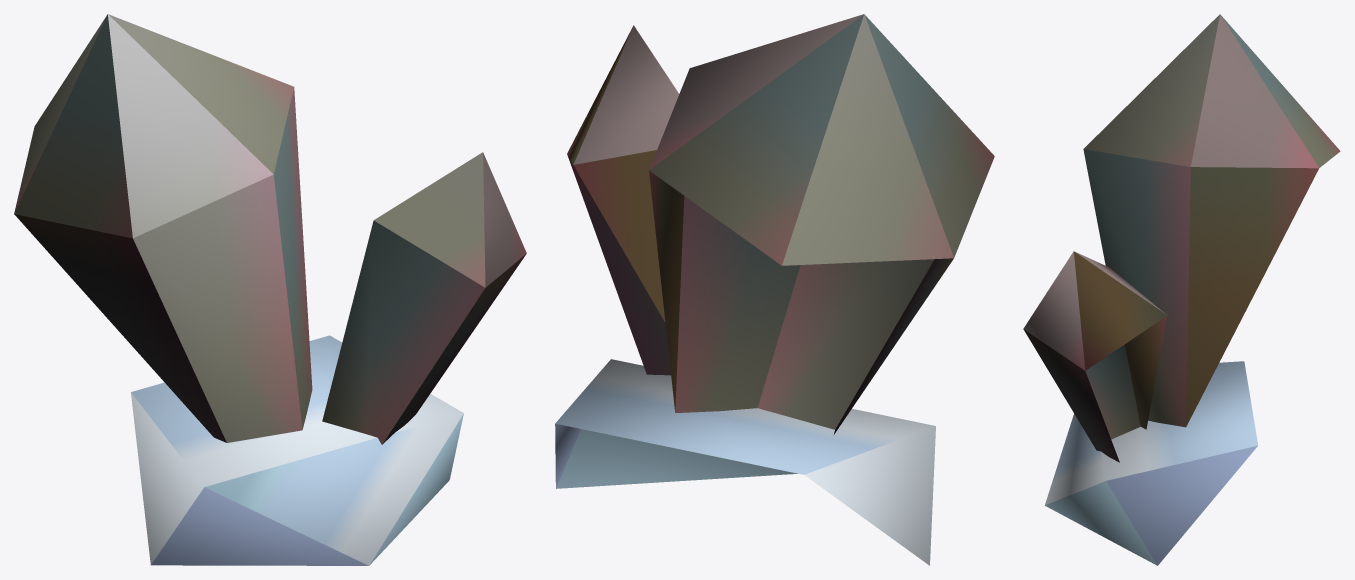
The model's file is fg_s_ore_out.dae.
3 renders of one model, left to right at view 1: azimuth 30°, elevation 25°; view 2: azimuth 150°, elevation 25°; view 3: azimuth 270°, elevation 25°, orthographic. The views are drawn at different scales.
Visible parts, largest first — view 1: fg_s_ore_out; view 2: fg_s_ore_out; view 3: fg_s_ore_out.
Part boxes in pixels (box(x1,y1,x2,y2)): fg_s_ore_out: box(14, 14, 526, 565); fg_s_ore_out: box(555, 14, 994, 565); fg_s_ore_out: box(1023, 14, 1340, 565).
Bounding box in the file's own units: 14.25 × 16.48 × 11.07.
1 material, 1 textured.
